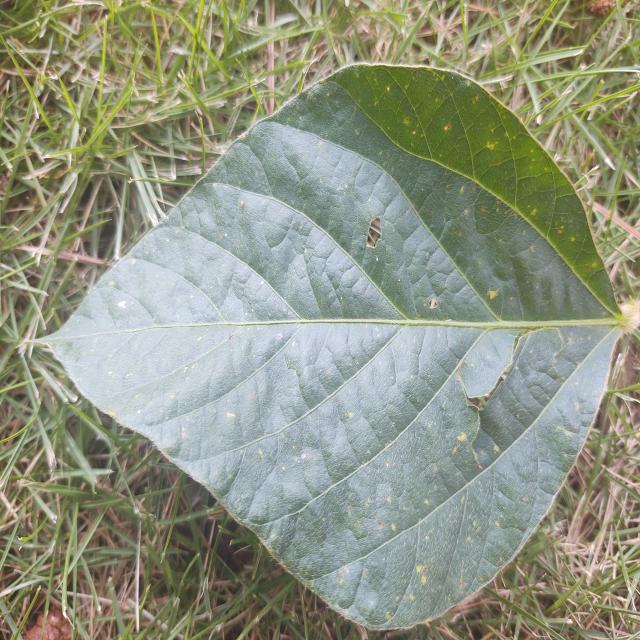Soybean: (32, 64, 629, 636)
downey_mildew: (121, 218, 291, 325), (519, 331, 621, 479), (346, 156, 436, 318), (517, 178, 622, 308), (387, 485, 478, 630), (305, 329, 404, 457), (436, 186, 534, 315), (331, 510, 431, 635), (334, 62, 433, 172), (229, 419, 321, 530), (264, 125, 359, 230), (344, 423, 424, 537), (217, 185, 311, 282), (162, 433, 281, 504), (445, 453, 502, 600), (482, 432, 543, 547), (401, 324, 479, 408), (471, 376, 542, 466), (424, 78, 486, 170), (418, 408, 487, 486), (451, 329, 519, 405), (514, 169, 569, 236), (513, 331, 574, 391), (209, 141, 273, 195), (548, 326, 605, 377), (520, 369, 568, 428), (534, 568, 590, 617), (473, 182, 522, 237), (470, 140, 518, 191), (325, 559, 361, 608)
